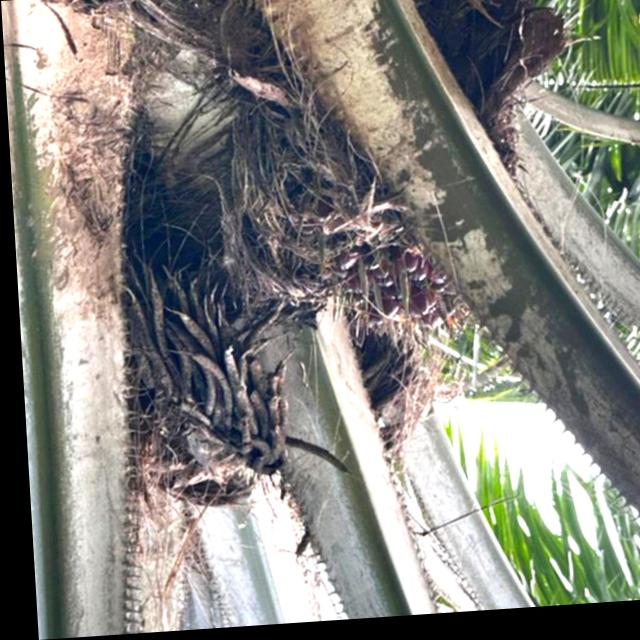ripe: (289, 198, 471, 364)
